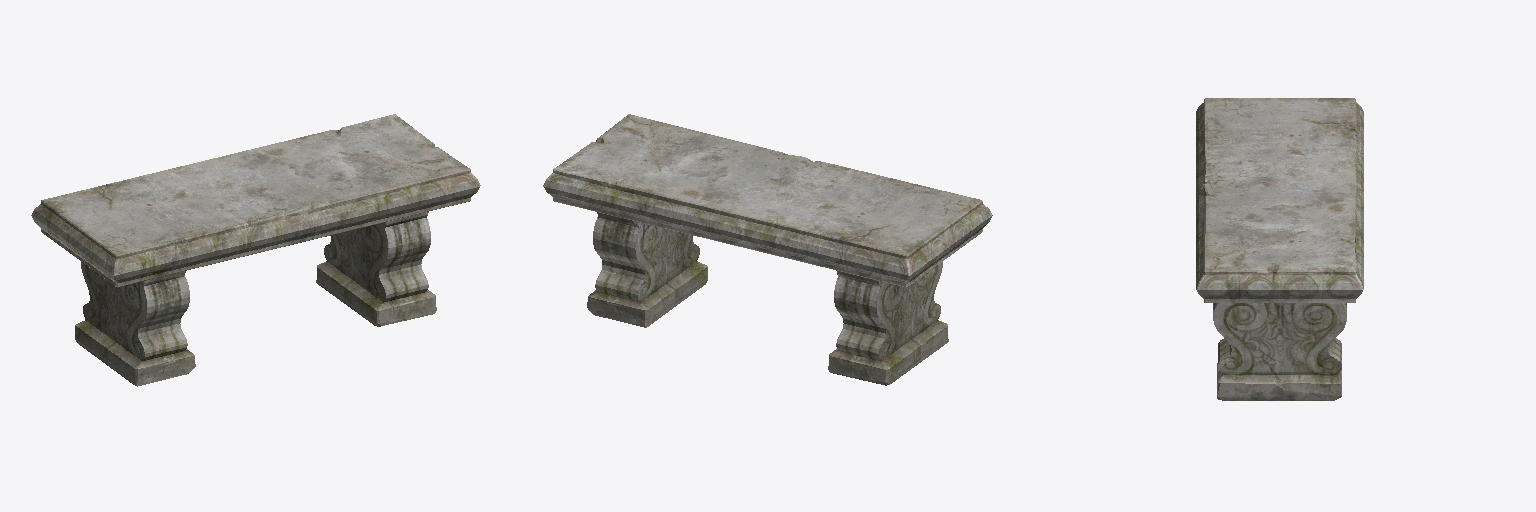
3 renders of one model, left to right at view 1: azimuth 30°, elevation 25°; view 2: azimuth 150°, elevation 25°; view 3: azimuth 270°, elevation 25°, orthographic.
Parts seen in each view (by area): view 1: StoneBench; view 2: StoneBench; view 3: StoneBench.
Boxes of the visible parts, x1,y1,x2,y2 form: StoneBench: [31, 114, 480, 386]; StoneBench: [543, 114, 992, 385]; StoneBench: [1196, 98, 1363, 400].
Size of the model in its own units: 85.81 by 31.96 by 33.84.
Materials: 1 (1 with a texture image).